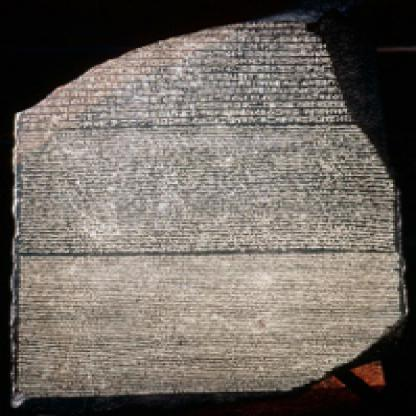Igneous_Basalt: (4, 8, 414, 414)
